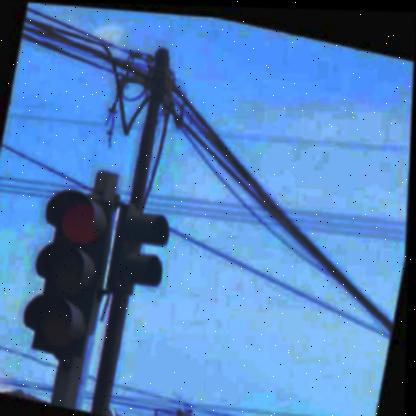Traffic Light -Red-: (20, 182, 118, 362)
